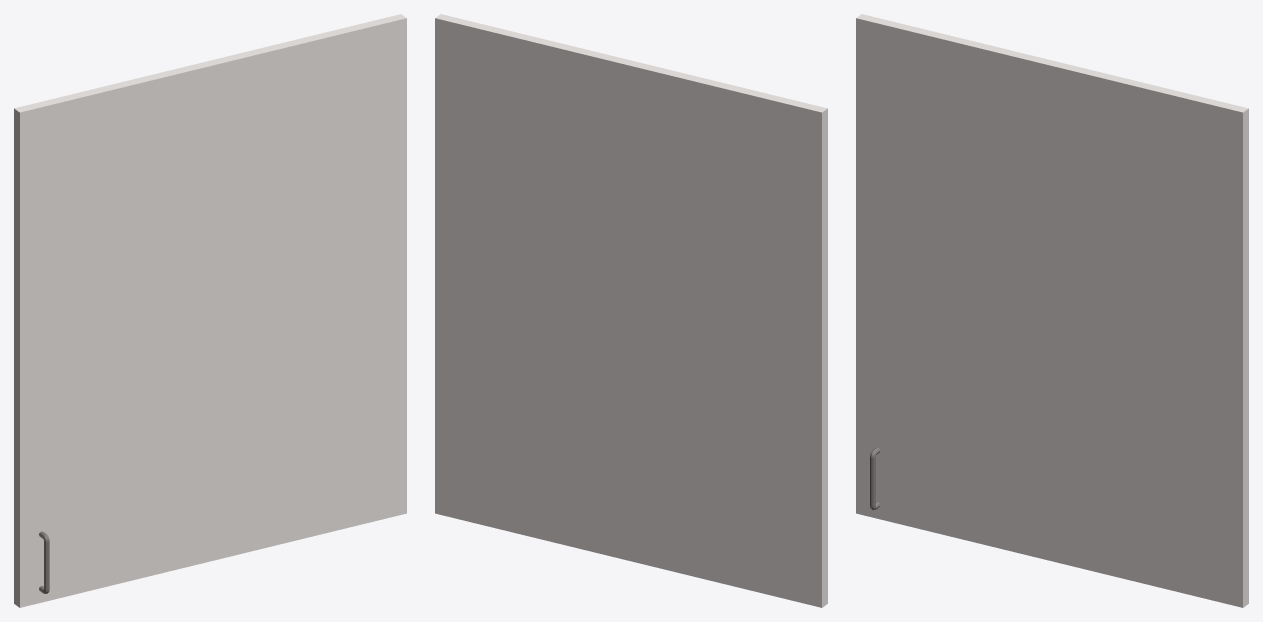
File: Fridge_02.fbx
3 views of the same model, side by side, from view 1: azimuth 30°, elevation 25°; view 2: azimuth 150°, elevation 25°; view 3: azimuth 330°, elevation 25° (orthographic).
Visible parts, largest first — view 1: Fridge_02; view 2: Fridge_02; view 3: Fridge_02.
Part boxes in pixels (left/top/right/bottom): Fridge_02: left=14, top=14, right=406, bottom=607; Fridge_02: left=435, top=14, right=827, bottom=607; Fridge_02: left=856, top=14, right=1248, bottom=607.
Size of the model in its own units: 91.31 by 112 by 5.04.
